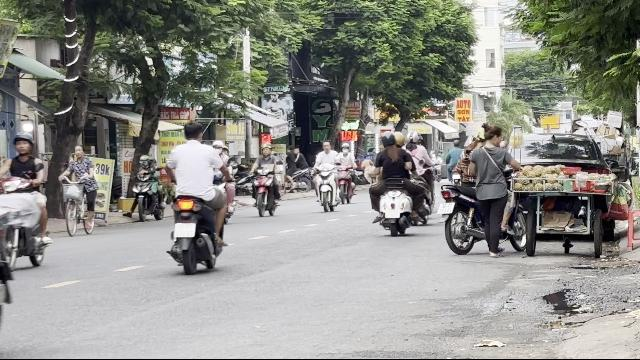helmet: (12, 132, 34, 156), (379, 130, 395, 148), (393, 131, 405, 146)
licenseplate: (174, 223, 196, 237), (438, 202, 454, 214), (386, 209, 400, 219), (1, 282, 8, 302)
motorcyclist: (163, 119, 233, 272), (0, 131, 52, 272), (368, 129, 417, 235)
nohelmet: (181, 122, 203, 142)
